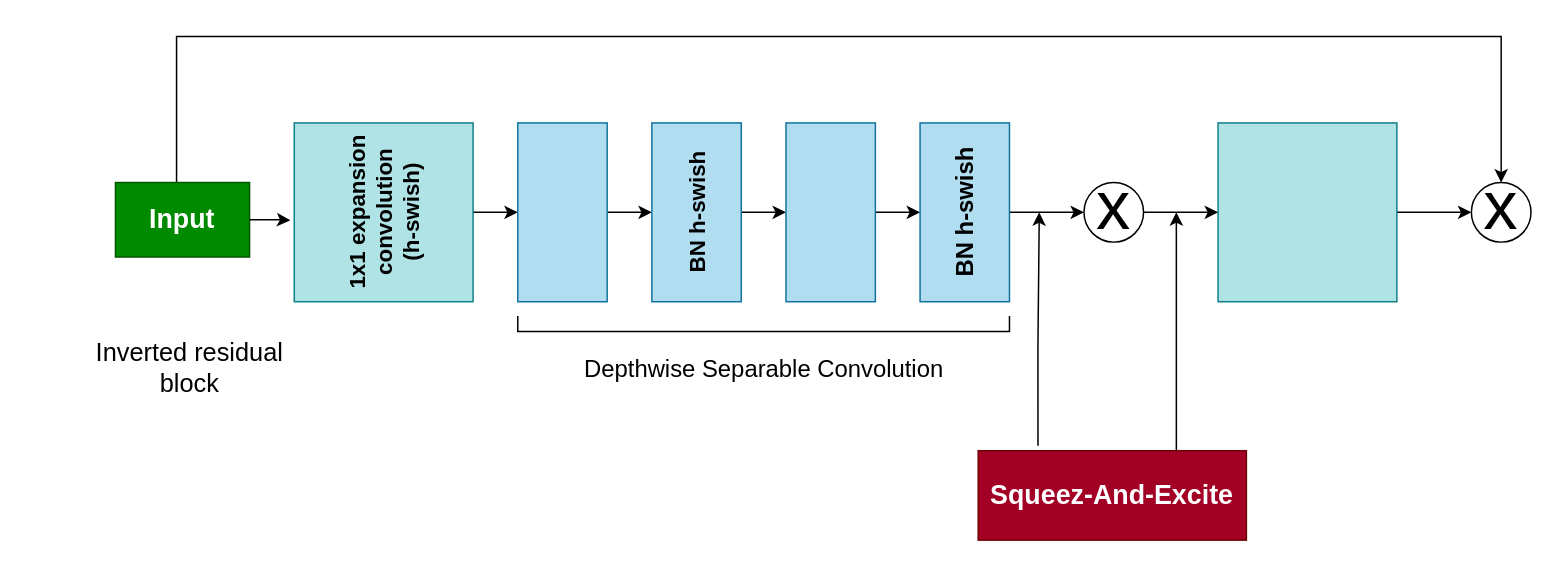
Some shapes in this 1557 by 566 pixel diagram are drawn without their labels. The shapes that lost their labels are listed below. From the top down, each one's centre as x and y in pixels, then its label:
[561,211]: 3x3 depthwize convolution
[829,211]: 1x1 pointwize convolution
[1307,211]: 1x1 projection layer
